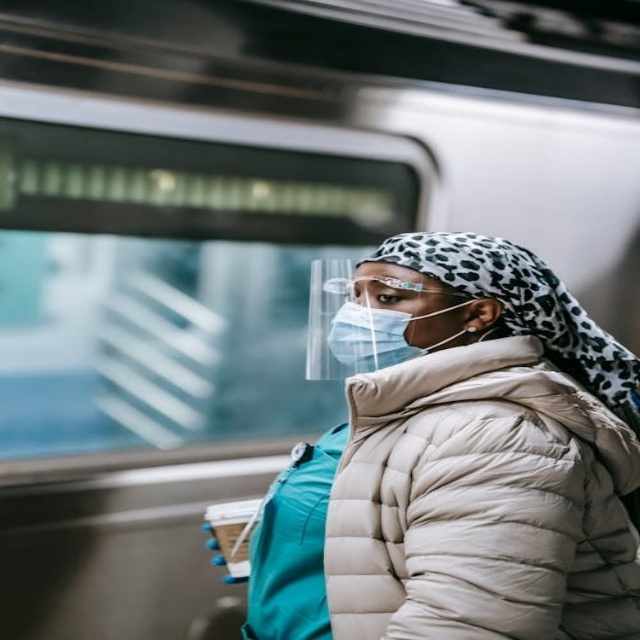Gafas: (324, 276, 477, 304)
Guantes: (204, 521, 248, 584)
Mascara: (323, 299, 429, 371)
